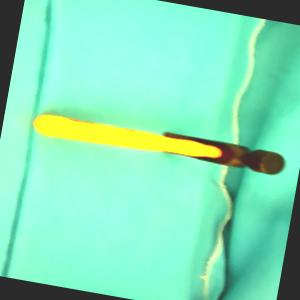martelo: (29, 106, 289, 178)
